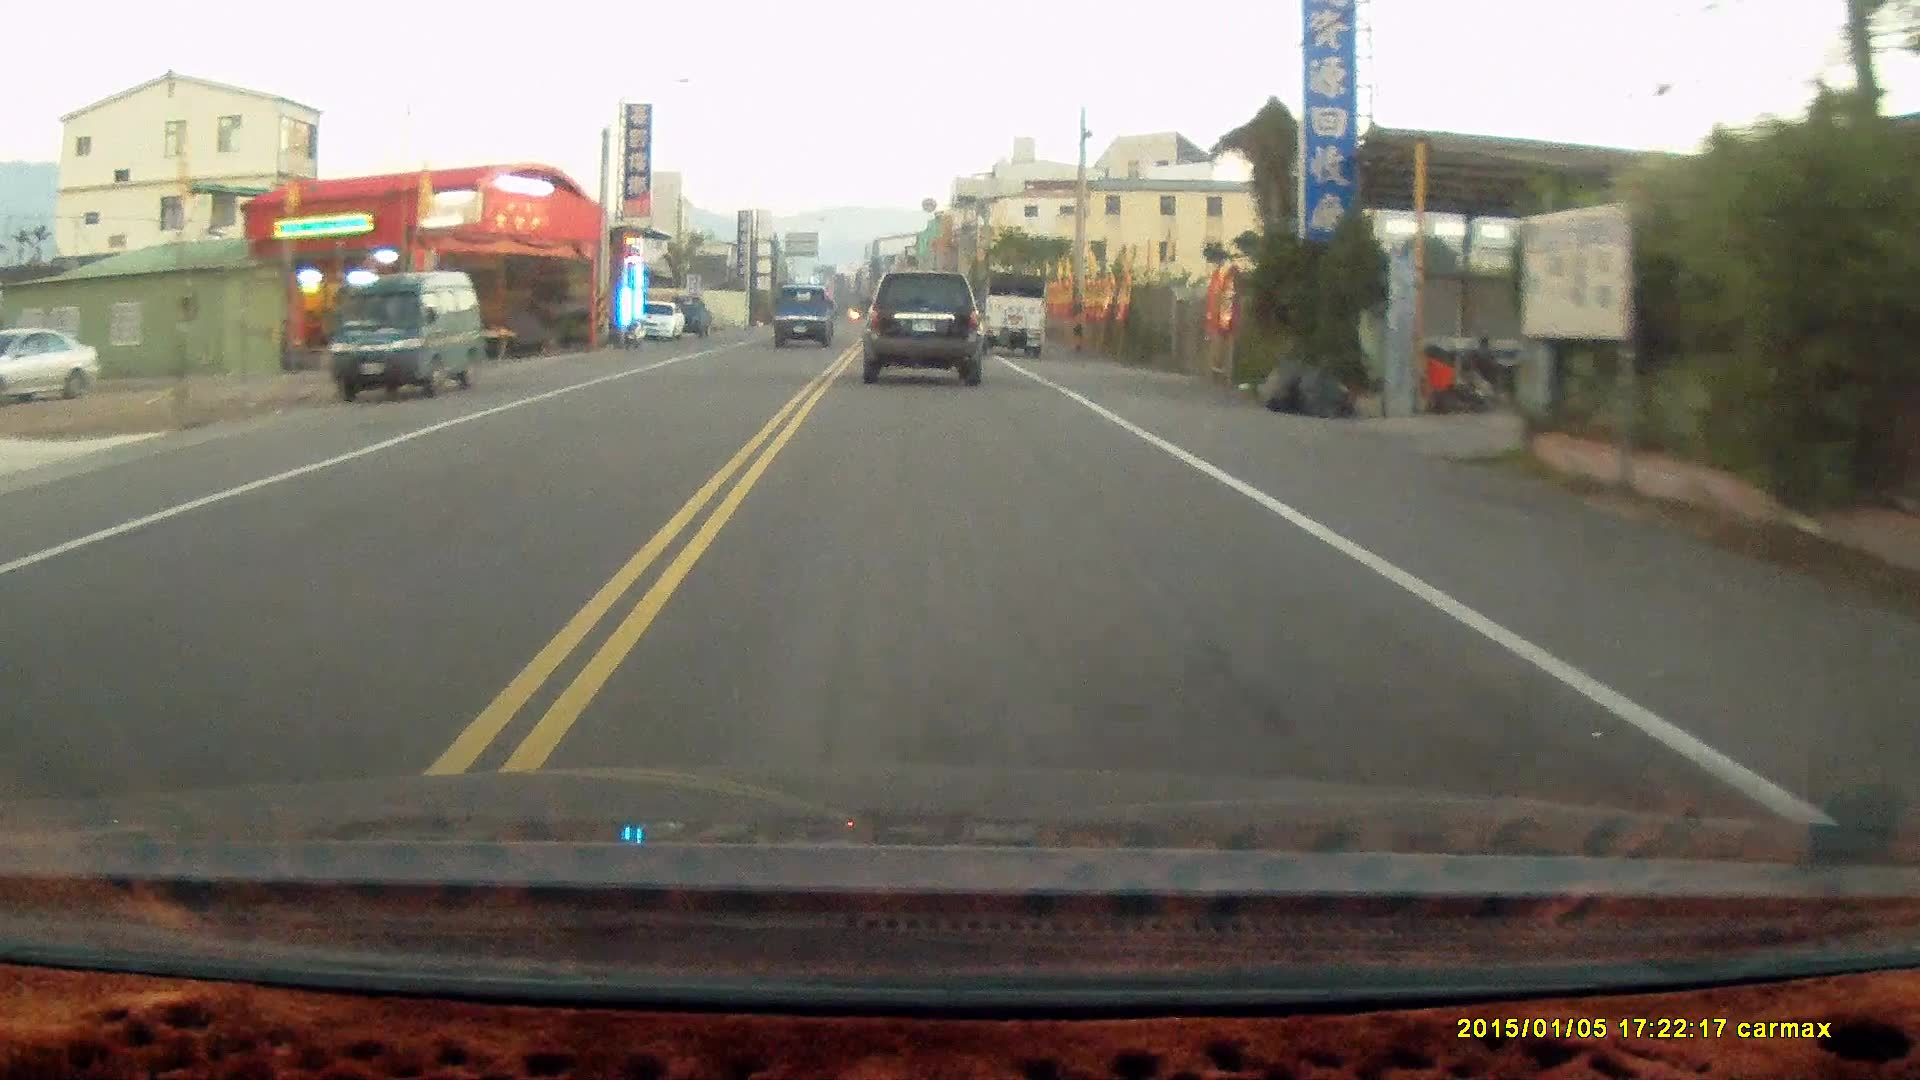vehicle: (326, 266, 487, 402), (865, 270, 985, 385), (0, 324, 102, 404), (960, 272, 1050, 360), (773, 284, 837, 349)
